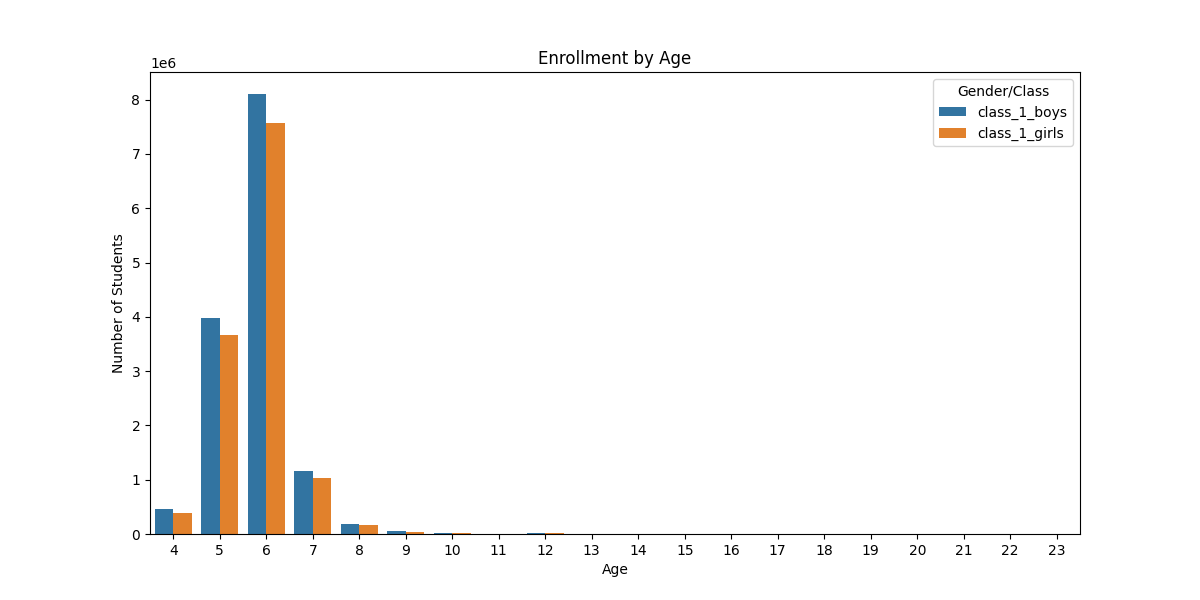

What the dashboard file says about the page in this screenshot:
{"tool":"tableau","page":{"name":"Dashboard 1","canvas":[1000,1000],"units":"permille","ordinal":0},"visuals":[{"type":"worksheet","title":"Sheet 2","mark":"Bar","rows":["count"],"cols":["date","date"],"box":[1.8,480.7,991,499.4]}]}

Visuals, with their boxes on the dashboard's canvas, which has no fixed pixel size, in thousandths of its width and height (x1, y1, x2, y2). These are canvas units, not pixel positions in the 1200x600 screenshot, which may show the page scaled, cropped or inside an application window:
"Sheet 2" worksheet (Bar marks): x1=2 y1=481 x2=993 y2=980
